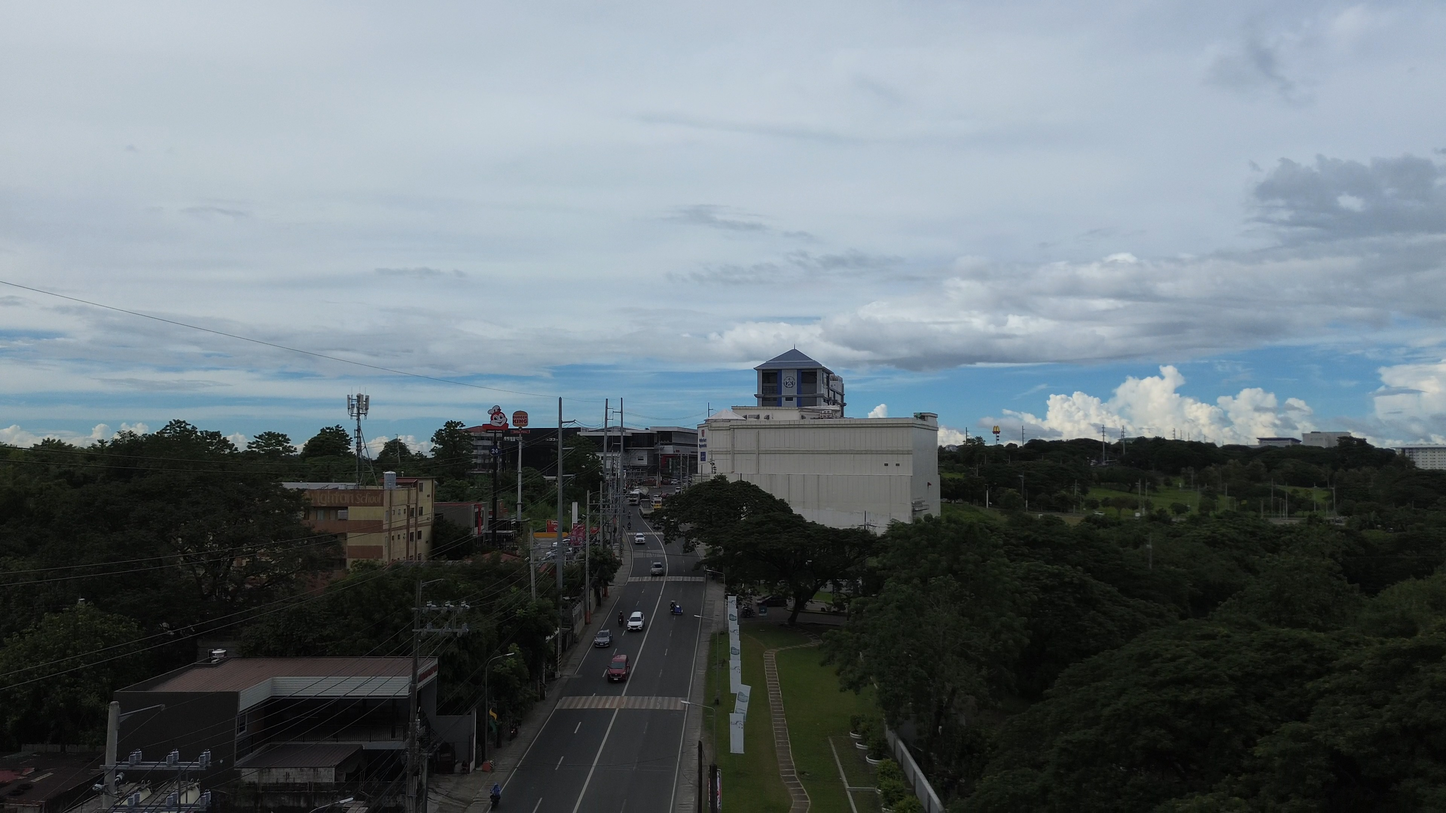car: (606, 653, 628, 681), (626, 611, 645, 632), (593, 629, 613, 647), (650, 561, 665, 575)
vehicle: (758, 595, 787, 607), (652, 494, 663, 509), (633, 533, 646, 544)
